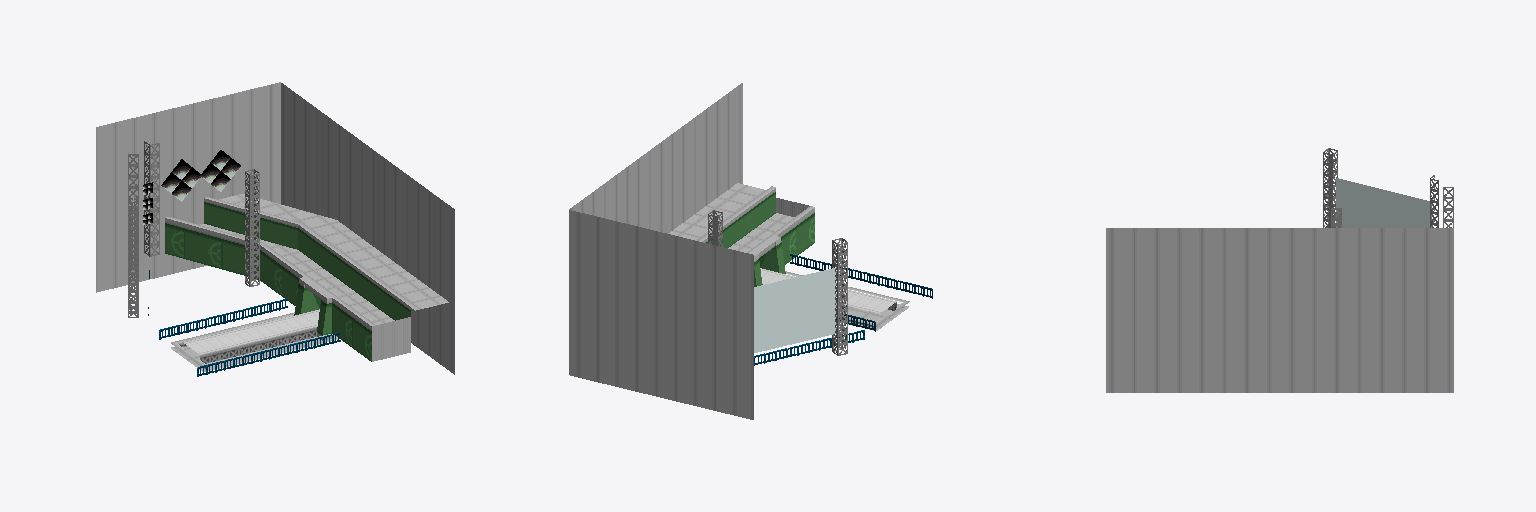
3 views of the same model, side by side, from view 1: azimuth 30°, elevation 25°; view 2: azimuth 150°, elevation 25°; view 3: azimuth 270°, elevation 25° (orthographic).
Visible parts, largest first — view 1: in79yuka01_lay0_QUADS_VisGroup0, in79kabe01_lay0_QUADS_VisGroup0, in79tou01_lay0_QUADS_VisGroup0, in79yuka02_lay0_QUADS_VisGroup0, in79light03_lay0_QUADS_VisGroup0, in79saku01_lay0_QUADS_VisGroup0; view 2: in79yuka01_lay0_QUADS_VisGroup0, in79tv_anim1_lay0_QUADS_VisGroup0, in79kabe01_lay0_QUADS_VisGroup0, in79tou01_lay0_QUADS_VisGroup0, in79saku01_lay0_QUADS_VisGroup0, in79yuka02_lay0_QUADS_VisGroup0; view 3: in79yuka01_lay0_QUADS_VisGroup0, in79tv_anim1_lay0_QUADS_VisGroup0, in79tou01_lay0_QUADS_VisGroup0.
Boxes of the visible parts, box(x1,y1,x2,y2) form: in79yuka01_lay0_QUADS_VisGroup0: box(96, 82, 454, 374); in79kabe01_lay0_QUADS_VisGroup0: box(165, 197, 414, 361); in79tou01_lay0_QUADS_VisGroup0: box(128, 141, 259, 317); in79yuka02_lay0_QUADS_VisGroup0: box(171, 309, 334, 368); in79light03_lay0_QUADS_VisGroup0: box(143, 150, 240, 224); in79saku01_lay0_QUADS_VisGroup0: box(148, 270, 340, 376); in79yuka01_lay0_QUADS_VisGroup0: box(569, 83, 908, 419); in79tv_anim1_lay0_QUADS_VisGroup0: box(754, 268, 835, 352); in79kabe01_lay0_QUADS_VisGroup0: box(697, 186, 814, 286); in79tou01_lay0_QUADS_VisGroup0: box(708, 210, 847, 355); in79saku01_lay0_QUADS_VisGroup0: box(754, 254, 932, 365); in79yuka02_lay0_QUADS_VisGroup0: box(760, 268, 909, 327); in79yuka01_lay0_QUADS_VisGroup0: box(1106, 228, 1453, 392); in79tv_anim1_lay0_QUADS_VisGroup0: box(1336, 178, 1431, 227); in79tou01_lay0_QUADS_VisGroup0: box(1323, 148, 1453, 227).
Bounding box in the file's own units: 368 × 260 × 496.
Materials: 7 (7 with a texture image).